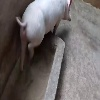heo: (14, 1, 76, 70)
